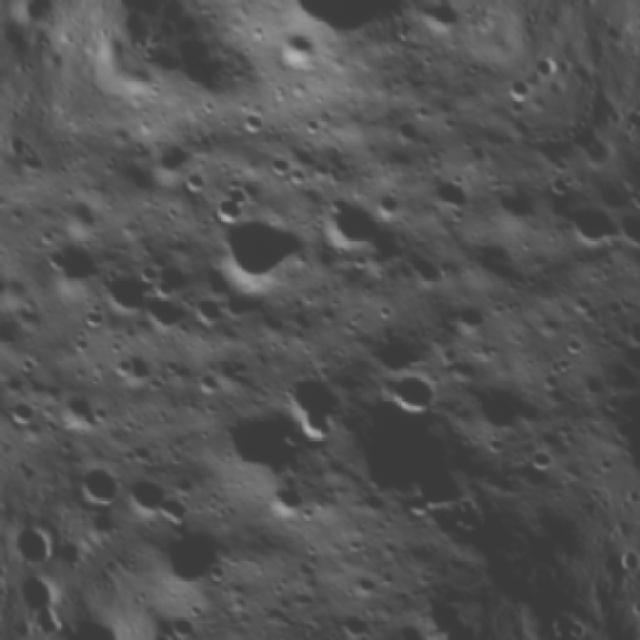crater: (201, 388, 316, 502), (207, 194, 311, 298), (249, 0, 411, 63), (265, 354, 364, 454), (146, 512, 234, 598), (116, 457, 196, 540), (554, 192, 629, 268), (370, 355, 444, 430), (35, 228, 108, 298), (262, 19, 330, 87), (322, 189, 386, 253), (418, 165, 478, 226), (0, 209, 26, 343), (255, 473, 313, 530), (135, 288, 193, 344), (73, 458, 129, 514), (438, 296, 493, 350), (102, 262, 156, 316), (53, 388, 107, 442), (389, 482, 438, 532), (416, 0, 466, 42), (112, 347, 157, 393), (492, 71, 537, 115), (384, 110, 428, 155), (0, 390, 43, 435), (70, 297, 113, 340), (534, 162, 577, 205), (343, 566, 385, 608), (333, 603, 379, 640), (192, 288, 232, 330), (14, 144, 52, 181), (524, 440, 559, 475), (161, 606, 197, 640), (180, 164, 214, 198), (564, 288, 598, 322), (557, 328, 591, 362), (280, 158, 314, 192), (372, 188, 405, 221), (0, 368, 31, 402), (192, 369, 223, 402), (238, 106, 270, 137), (578, 370, 610, 401), (299, 110, 330, 142), (262, 148, 295, 178), (342, 246, 372, 279), (620, 320, 640, 354), (482, 432, 508, 458), (370, 296, 396, 322), (629, 285, 640, 317)
